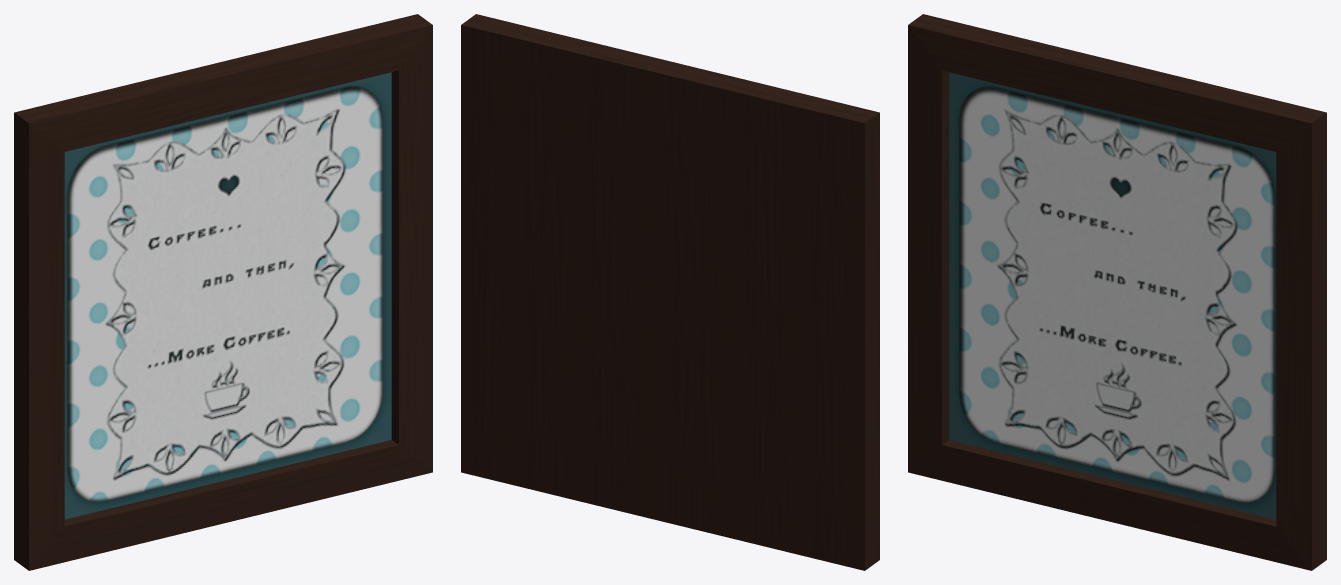
Rendered from Picture_SQ_03_B.FBX.
The picture shows the model from 3 angles, left to right: view 1: azimuth 30°, elevation 25°; view 2: azimuth 150°, elevation 25°; view 3: azimuth 330°, elevation 25°; orthographic projection.
Parts seen in each view (by area): view 1: Picture003; view 2: Picture003; view 3: Picture003.
Part boxes in pixels (x1,y1,x2,y2): Picture003: (14, 14, 432, 570); Picture003: (461, 14, 879, 570); Picture003: (908, 14, 1326, 570).
Bounding box in the file's own units: 62.04 × 65.68 × 4.21.
